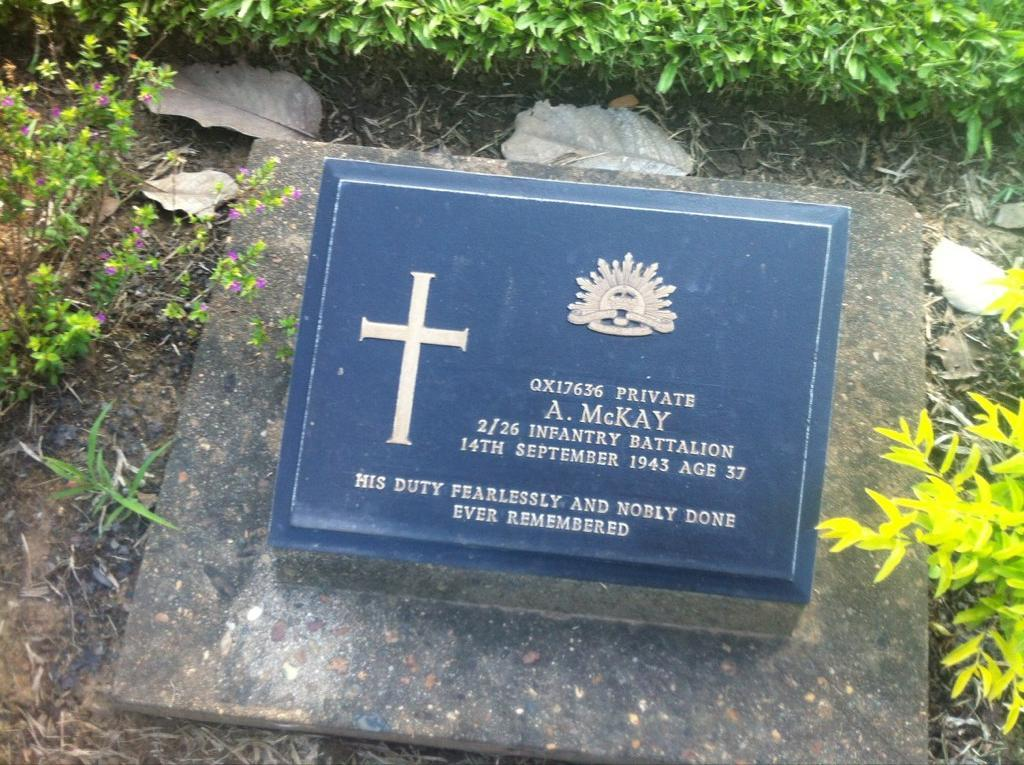flat: (267, 143, 852, 611)
